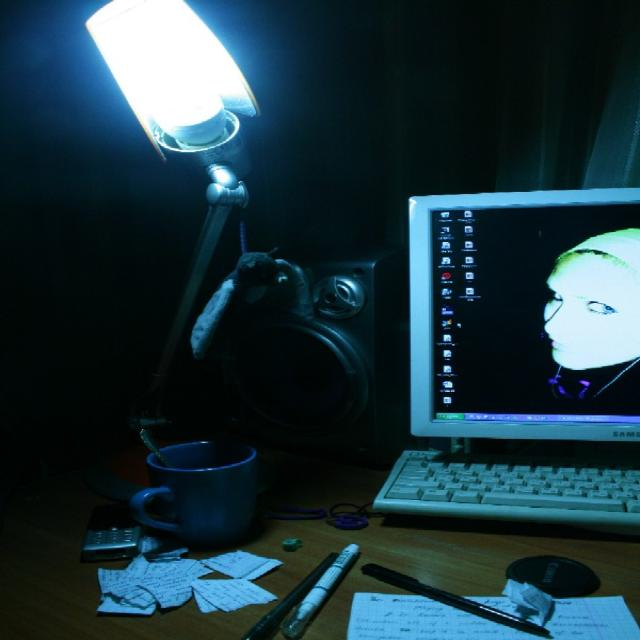Cup: (128, 413, 275, 567)
Table: (0, 314, 640, 640)
